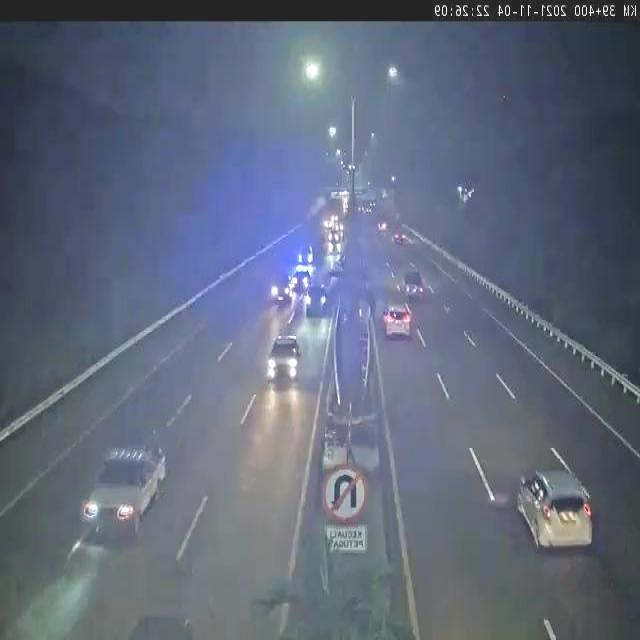Car: (82, 440, 167, 540), (516, 467, 596, 556), (264, 332, 302, 387), (382, 302, 413, 342), (304, 283, 330, 318), (403, 268, 425, 300), (269, 281, 292, 305), (288, 268, 314, 286), (296, 244, 316, 266), (392, 232, 407, 246), (328, 240, 341, 256)
